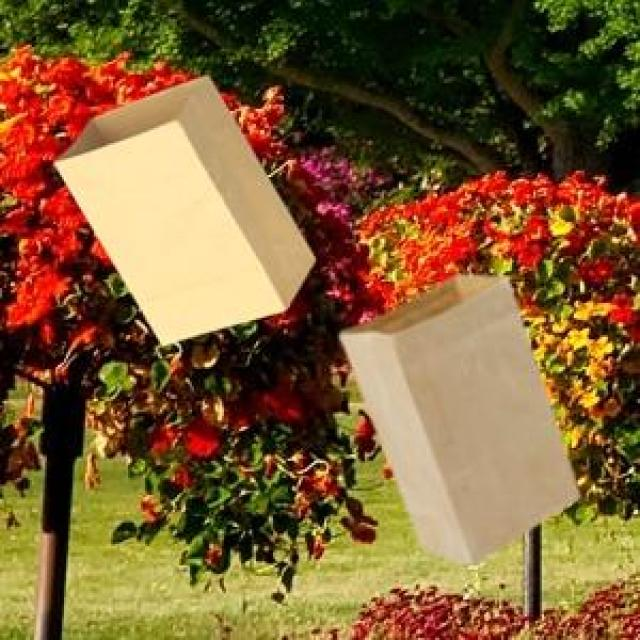PaperCardboard: (50, 67, 320, 351), (340, 274, 576, 562)
